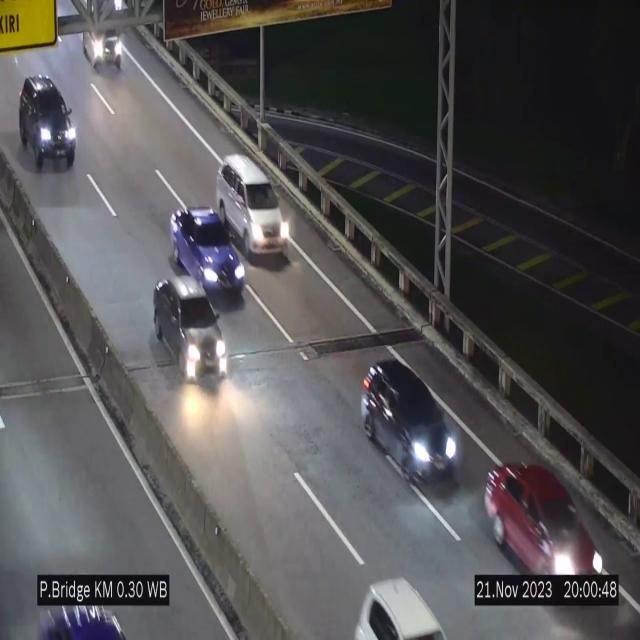Car: (484, 461, 604, 575), (357, 360, 458, 495), (349, 559, 452, 640), (154, 277, 228, 382), (170, 206, 246, 305), (216, 156, 286, 258), (16, 71, 78, 179), (81, 8, 133, 84)
